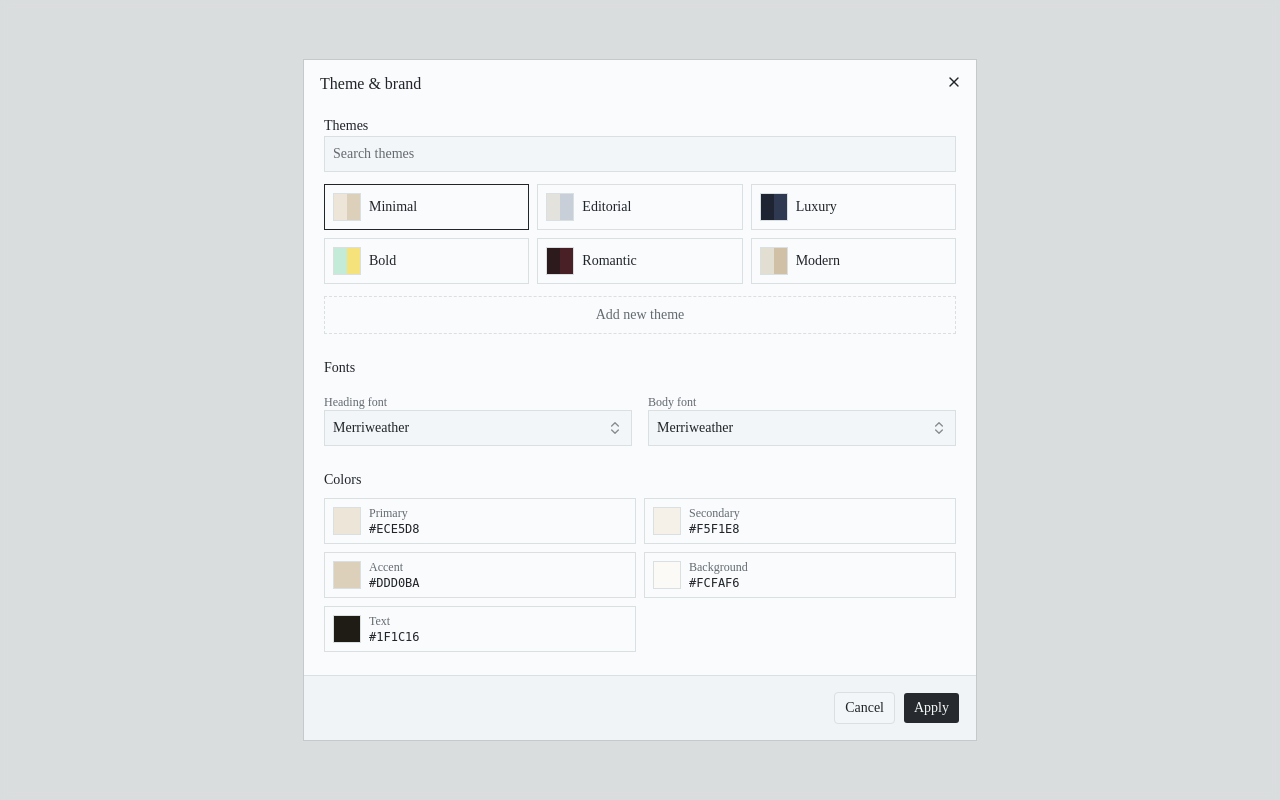
Test case: ThemePanelDialog brand-kit dirty guard (A13) › guards close after picking a different theme tile without applying
Click the button with aria-label "Apply theme: Editorial" at (640, 207), box [538,185,742,229]
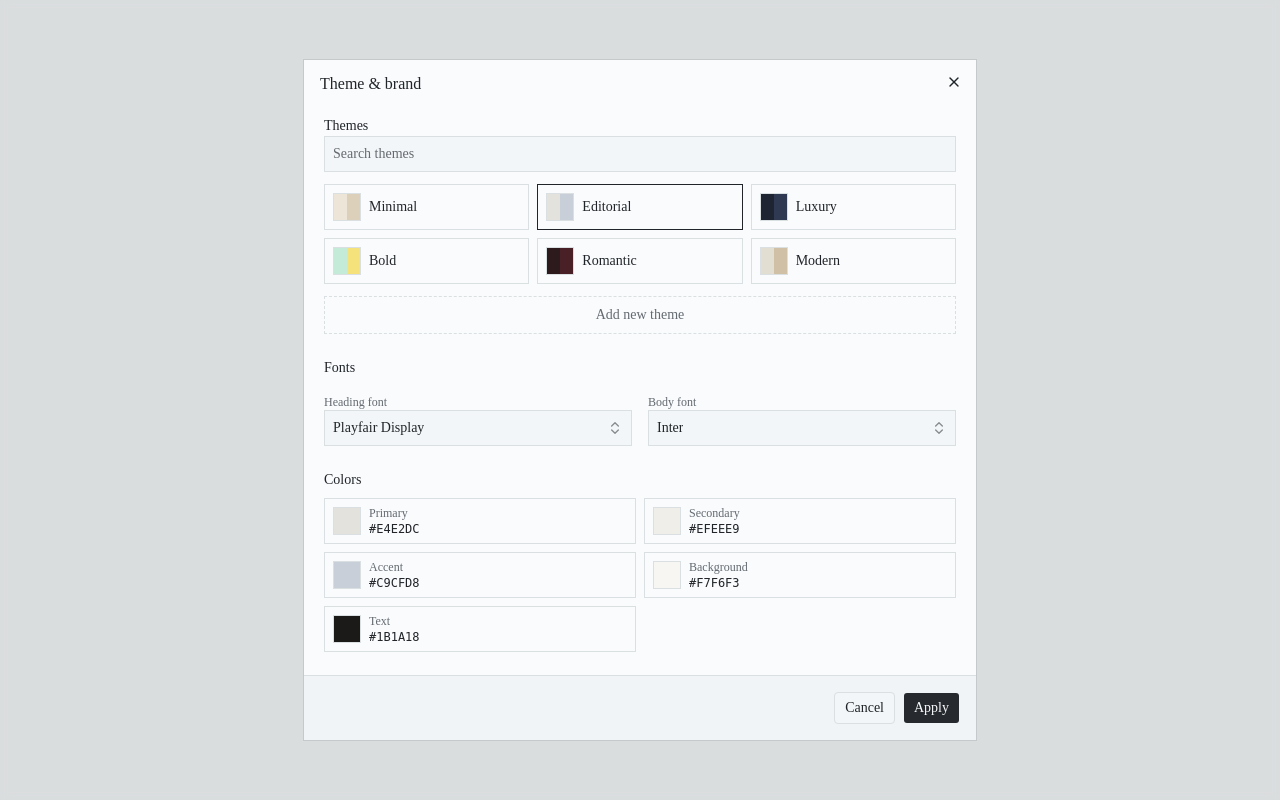
Click the button "Cancel" at (865, 708), box [834,692,895,724]
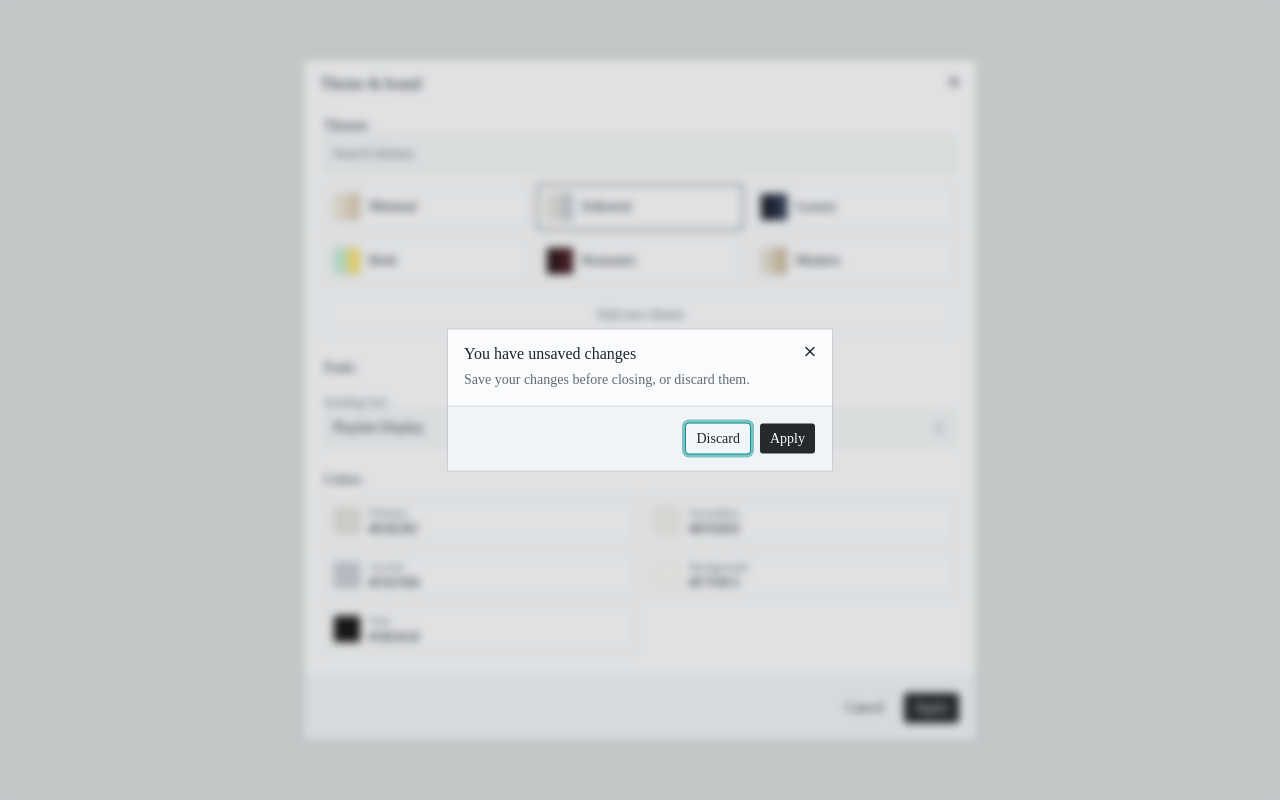
Check: the heading "You have unsaved changes" is shown, box [464,344,636,362]
